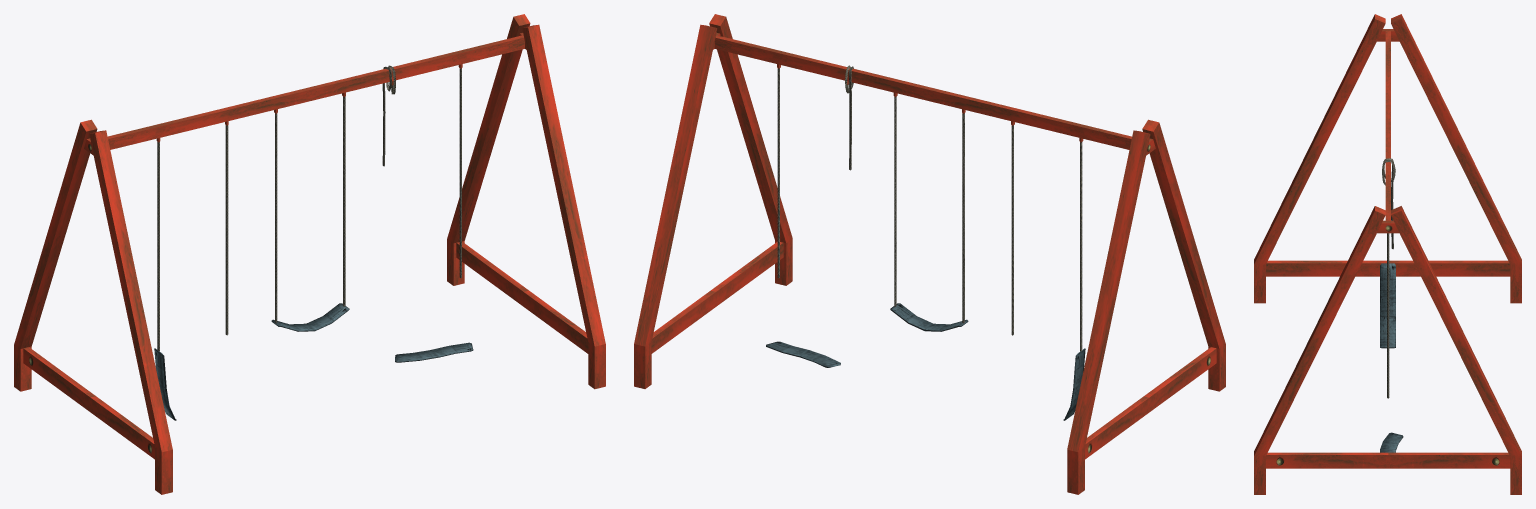
The model's file is Model_Swing_02.fbx.
The picture shows the model from 3 angles, left to right: view 1: azimuth 30°, elevation 25°; view 2: azimuth 150°, elevation 25°; view 3: azimuth 270°, elevation 25°; orthographic projection. The views are drawn at different scales.
Parts seen in each view (by area): view 1: Swing2; view 2: Swing2; view 3: Swing2.
Boxes of the visible parts, x1,y1,x2,y2 form: Swing2: [14, 14, 605, 494]; Swing2: [634, 14, 1225, 494]; Swing2: [1254, 14, 1521, 494].
Size of the model in its own units: 481 by 324 by 277.
